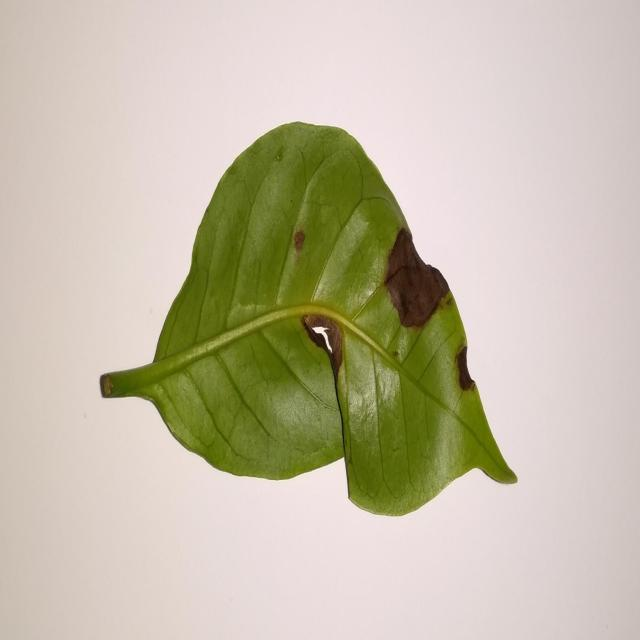Enfermedad-Antracnosis: (97, 121, 517, 519)
